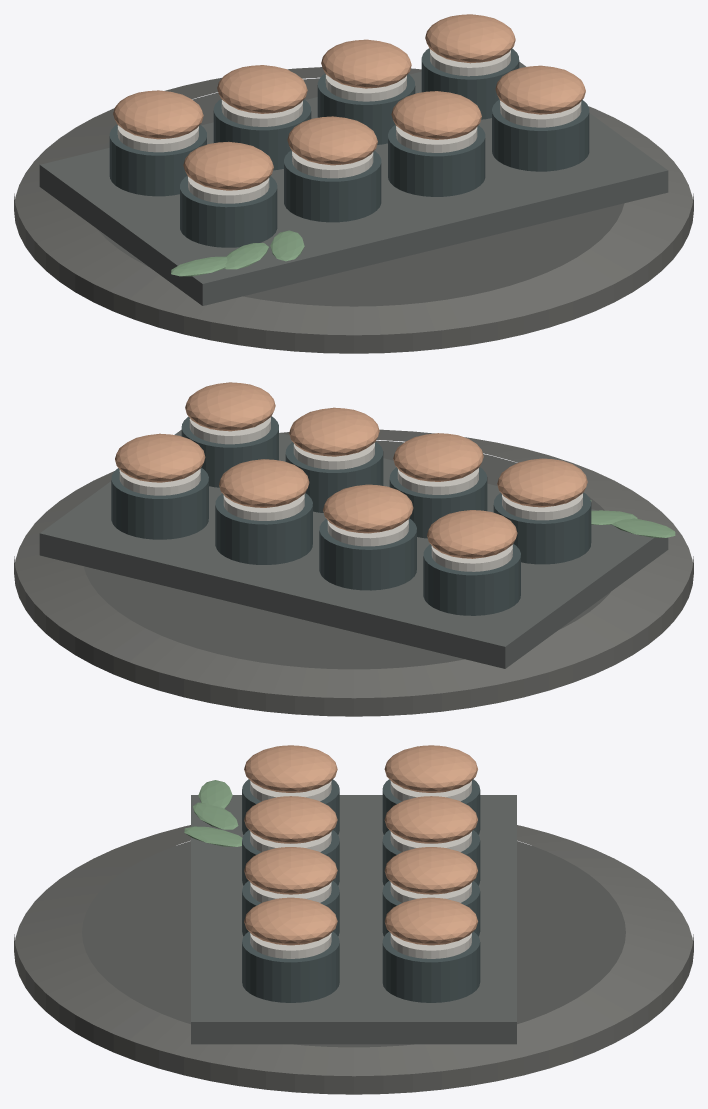
File: sushi.glb
3 renders of one model, top to bottom at view 1: azimuth 30°, elevation 25°; view 2: azimuth 150°, elevation 25°; view 3: azimuth 270°, elevation 25°, orthographic.
Parts seen in each view (by area): view 1: world; view 2: world; view 3: world.
Part boxes in pixels (x1,y1,x2,y2): world: (14, 14, 693, 353); world: (14, 382, 693, 716); world: (14, 745, 693, 1094).
Size of the model in its own units: 0.334 by 0.071 by 0.334.
